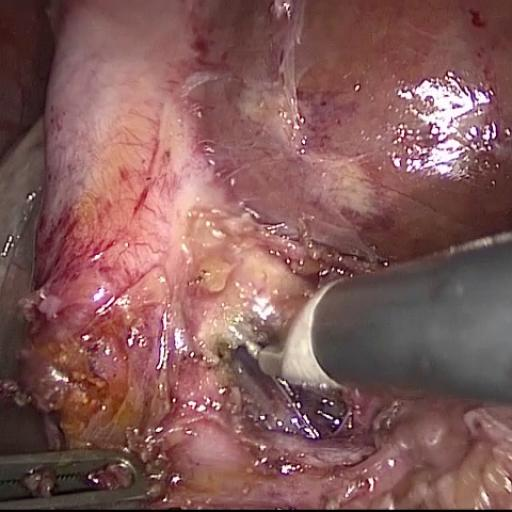Grasper: (0, 410, 154, 512)
Hook: (203, 236, 384, 422)
